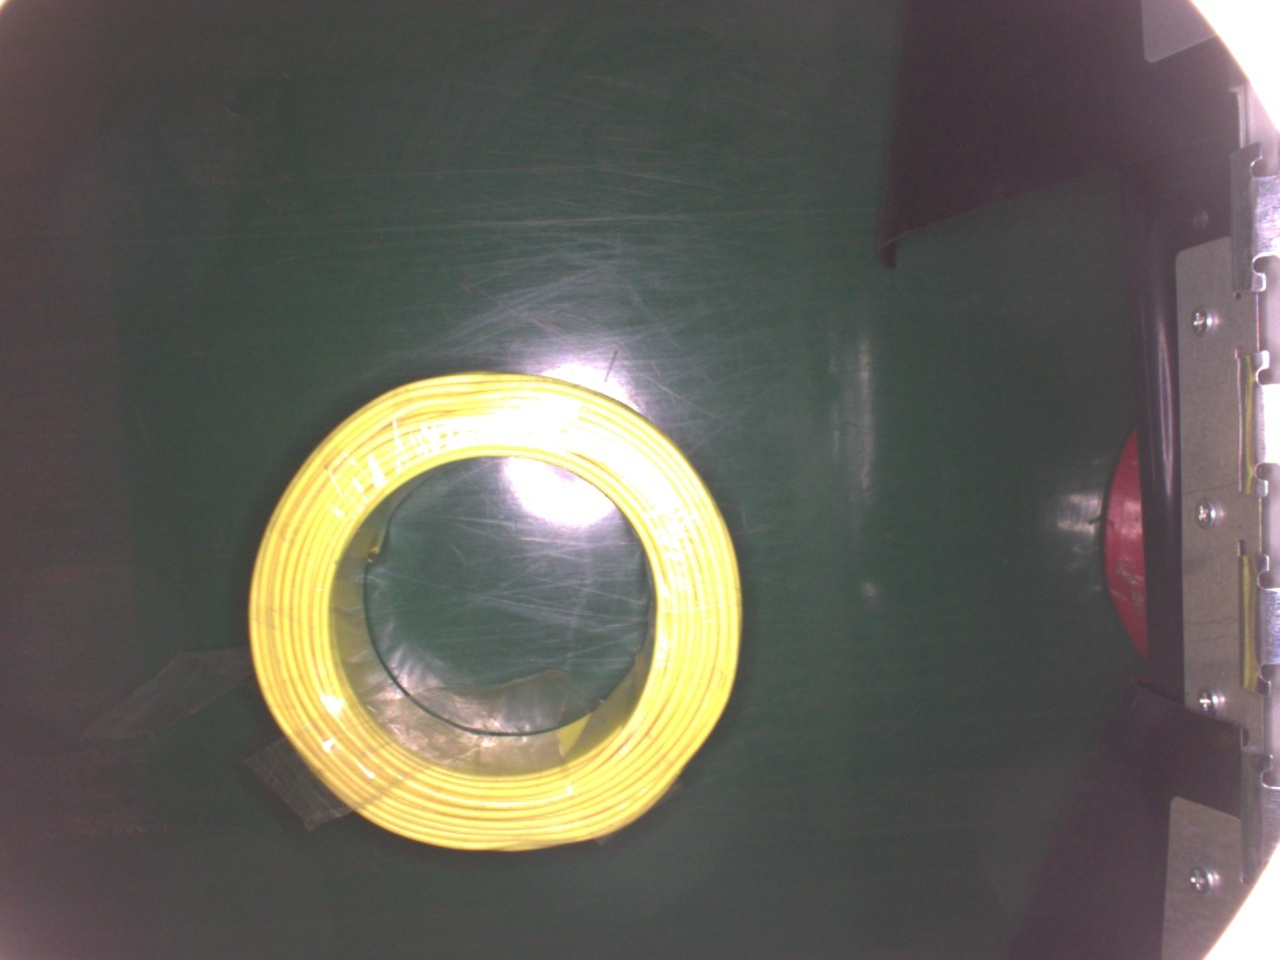yellow: (248, 367, 741, 857)
